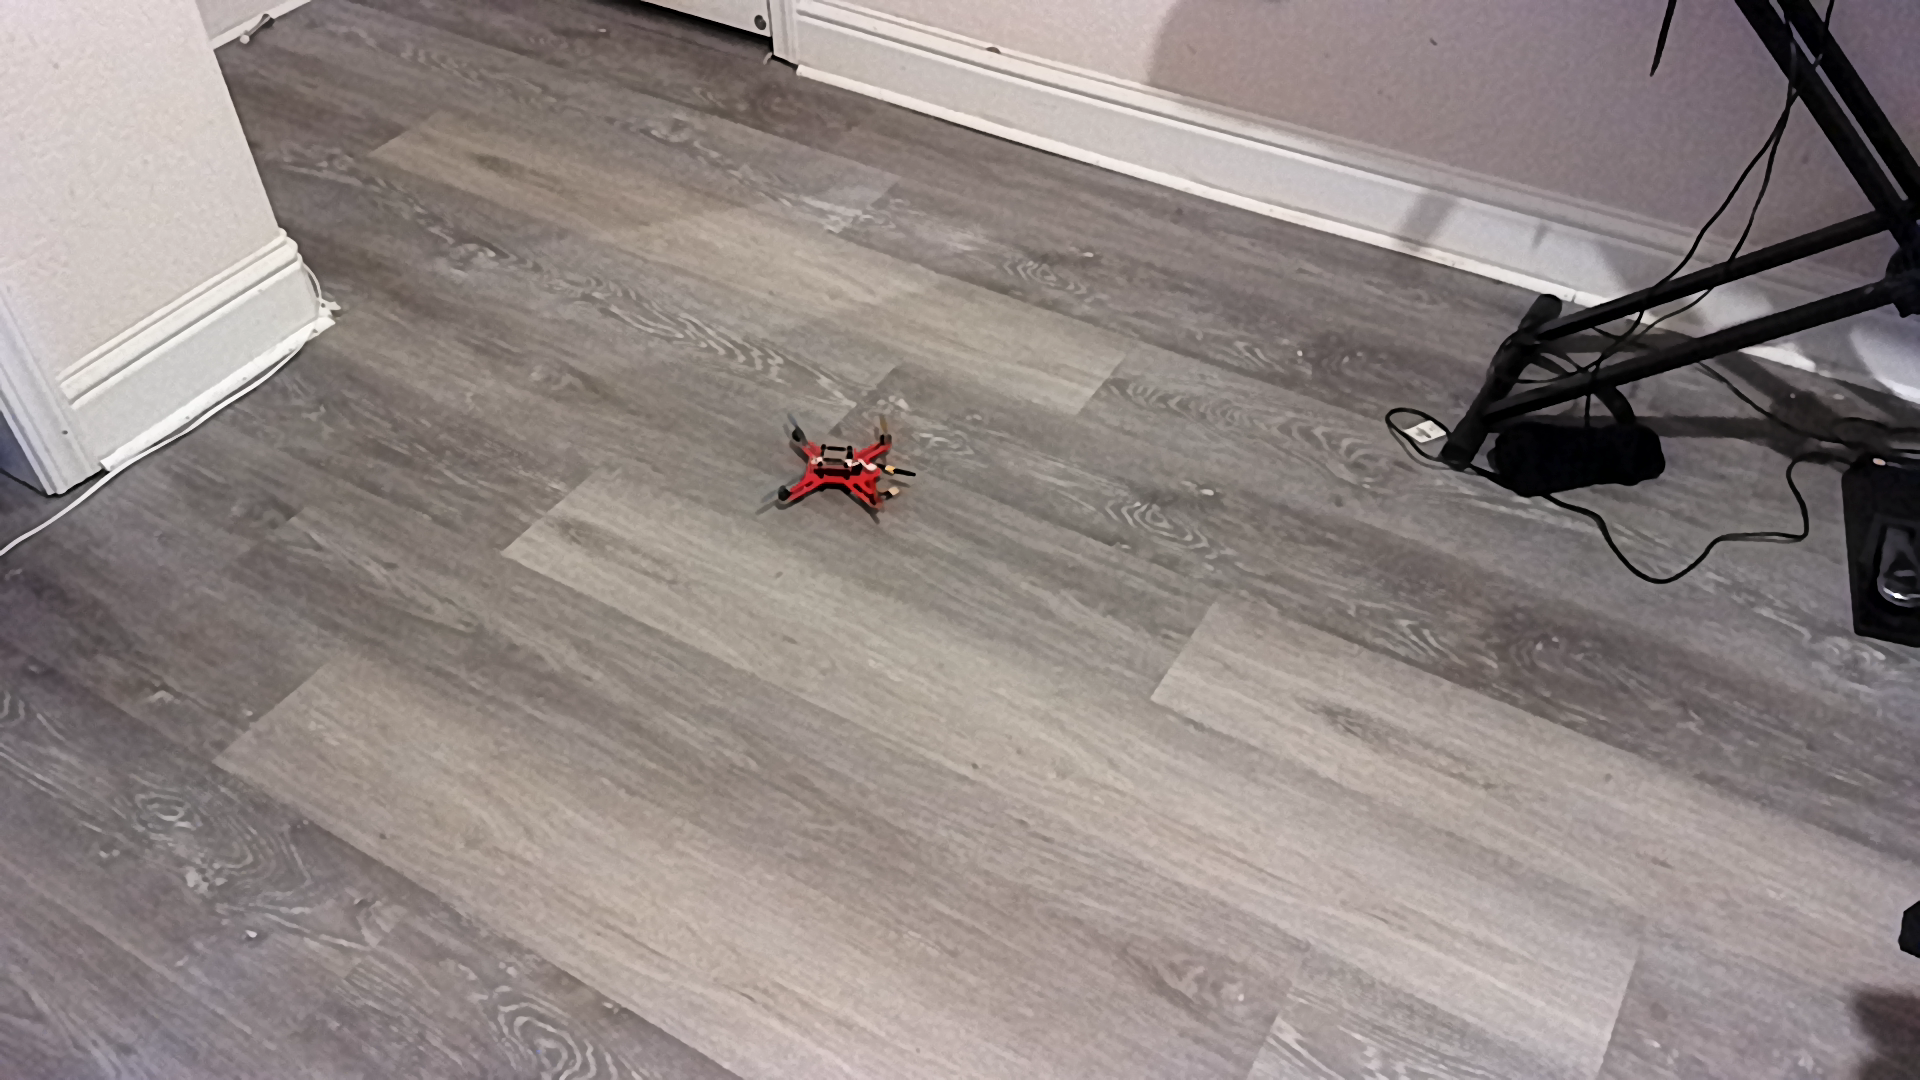drone: (753, 398, 942, 527)
